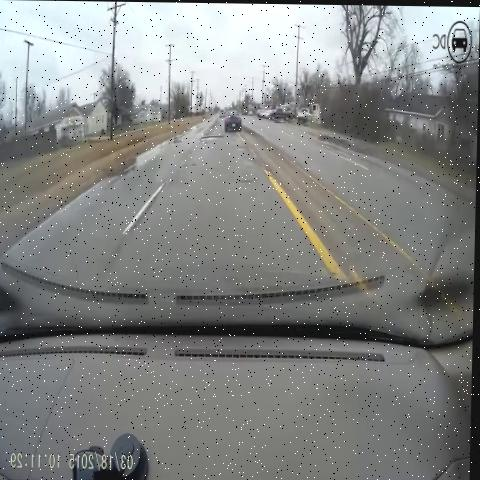pothole: (235, 166, 264, 191), (198, 127, 228, 145), (190, 155, 201, 171)
